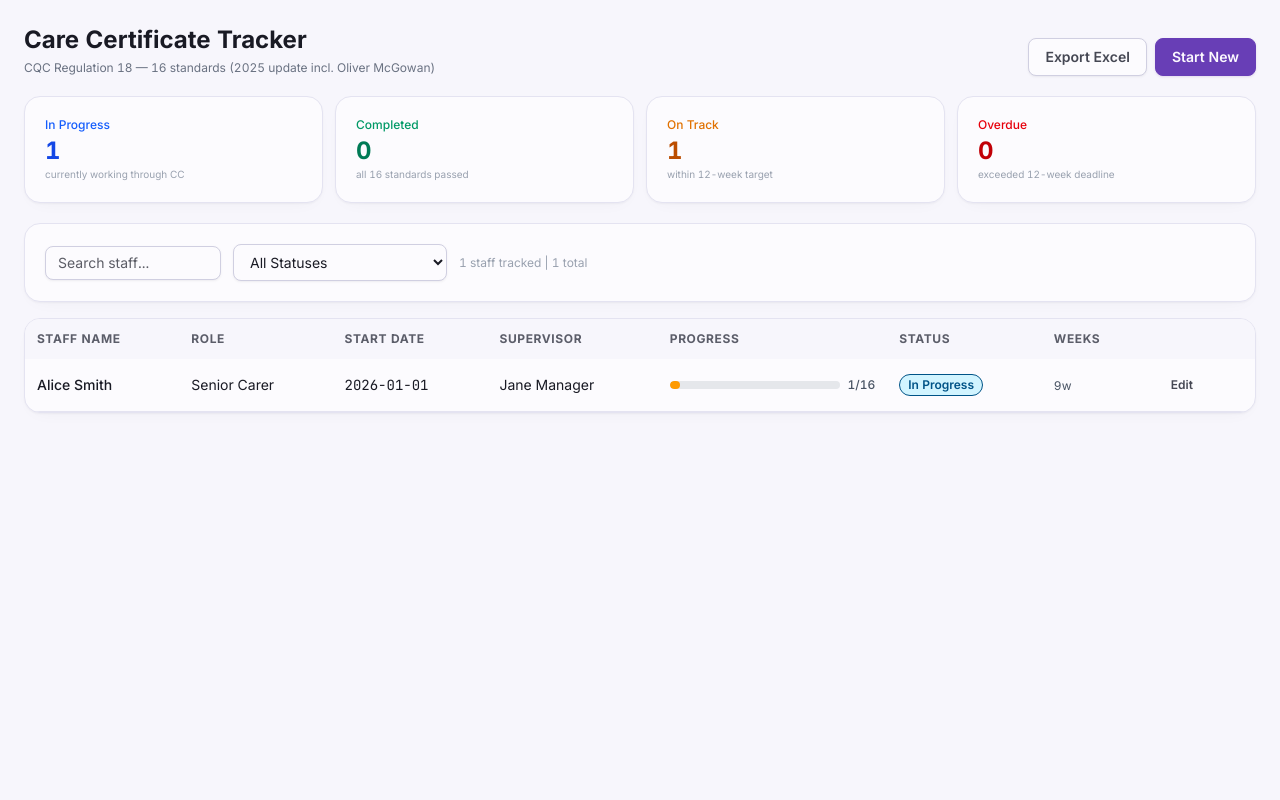
Test case: CareCertificateTracker › search filter narrows the staff list
Check: the text "Alice Smith" is shown, box [25, 359, 179, 412]
Type "bob" into the field with placeholder "Search staff..." at (133, 262), box [45, 246, 221, 280]
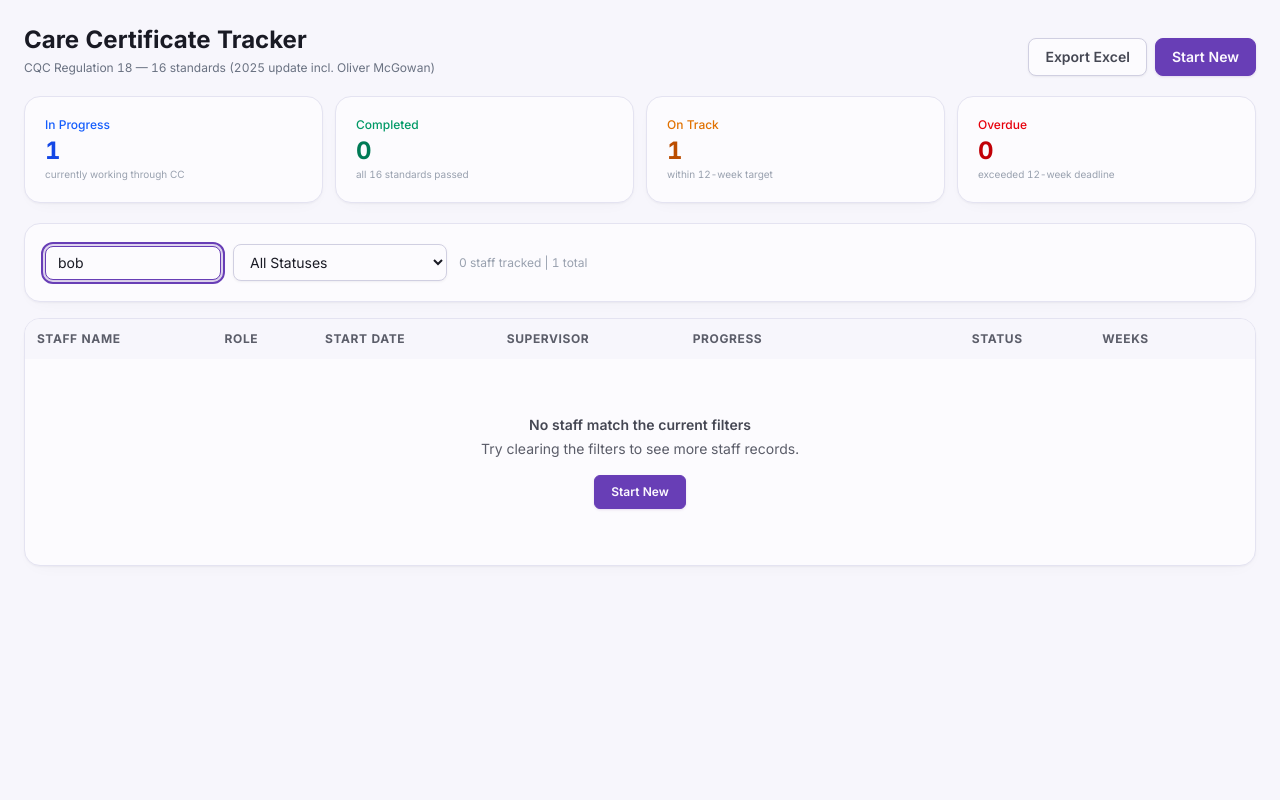
Check: the button "Alice Smith" is gone
